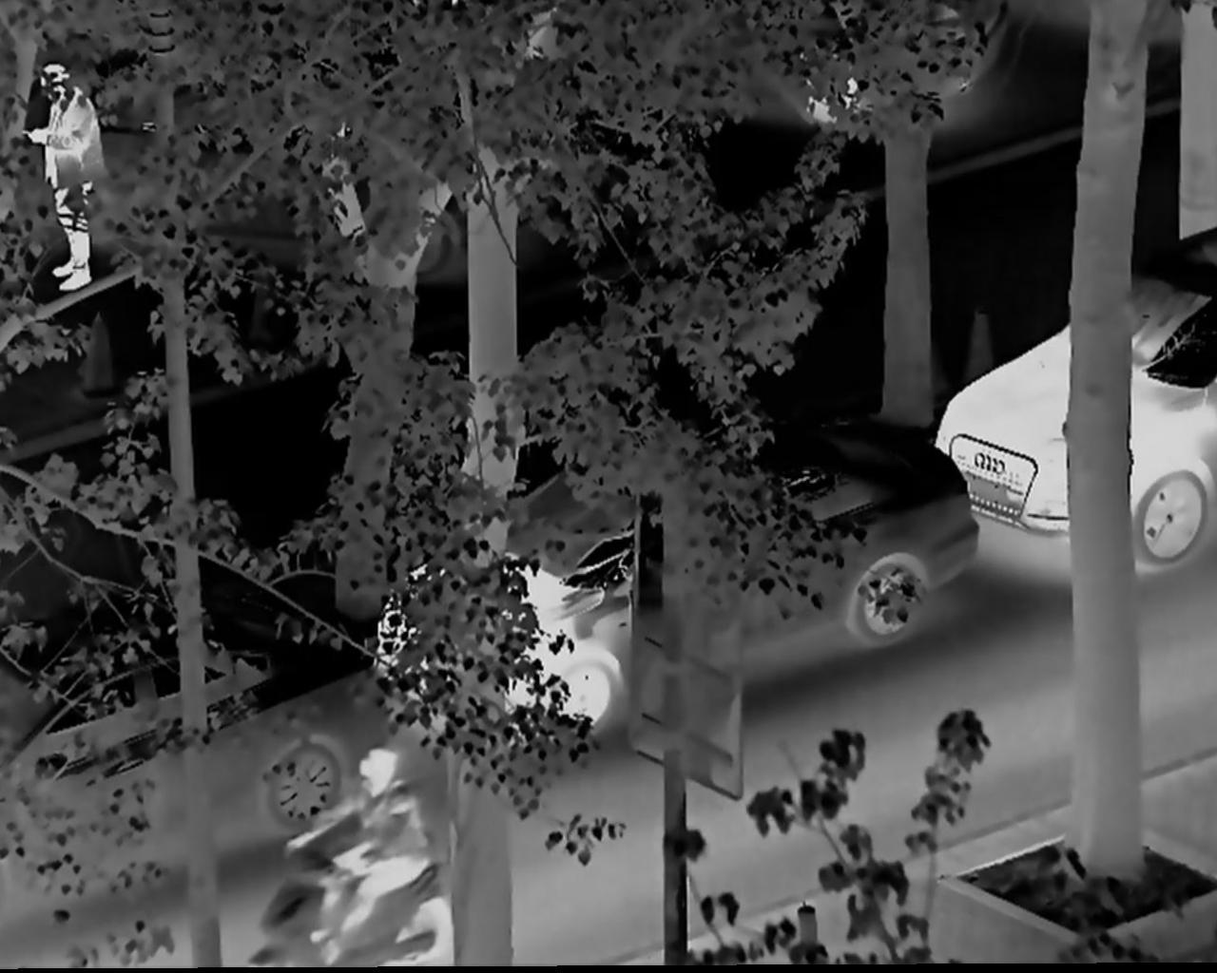person: (295, 738, 440, 961), (24, 66, 106, 298)
